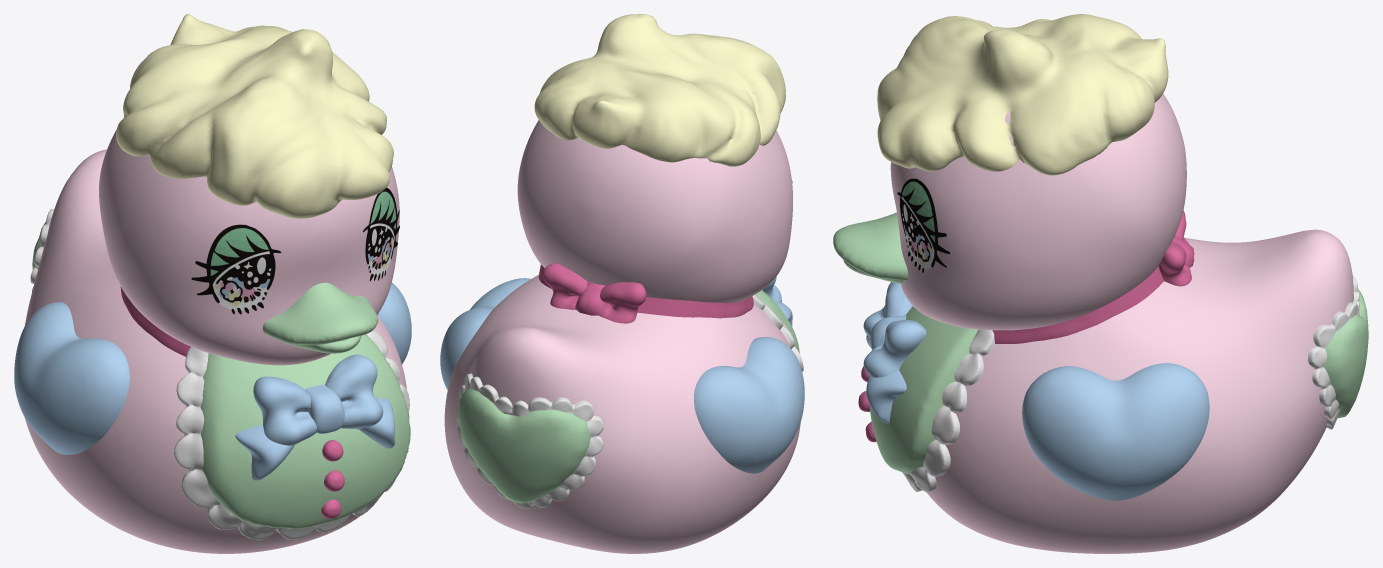
3 renders of one model, left to right at view 1: azimuth 30°, elevation 25°; view 2: azimuth 150°, elevation 25°; view 3: azimuth 270°, elevation 25°, orthographic. The views are drawn at different scales.
Parts seen in each view (by area): view 1: Kami, Fix, Torebi 5, Maekake, Torebi 7, Ribon.001, 平面.001, Furi.001, Torebi 3, Torebi 4, Botann, チューブ 4; view 2: Torebi 5, Fix, Kami, Torebi 7, Patch 1, Furi, Patch 14, Torebi 4, チューブ 4, Furi.001, Maekake; view 3: Torebi 5, Fix, Kami, Torebi 4, Maekake, Ribon.001, Furi.001, Torebi 3, Patch 1, 平面.001, チューブ 4, Furi (+1 smaller).
Part boxes in pixels (x1,y1,x2,y2): Kami: [116, 14, 393, 218]; Fix: [99, 118, 399, 365]; Torebi 5: [25, 149, 406, 553]; Maekake: [200, 334, 410, 528]; Torebi 7: [14, 302, 129, 454]; Ribon.001: [235, 354, 394, 480]; 平面.001: [191, 188, 399, 314]; Furi.001: [174, 330, 410, 540]; Torebi 3: [263, 282, 378, 353]; Torebi 4: [377, 282, 411, 364]; Botann: [321, 440, 344, 518]; チューブ 4: [120, 286, 190, 356]; Torebi 5: [444, 275, 800, 553]; Fix: [517, 120, 792, 302]; Kami: [534, 14, 785, 166]; Torebi 7: [694, 337, 804, 473]; Patch 1: [457, 388, 590, 503]; Furi: [456, 373, 603, 508]; Patch 14: [542, 263, 646, 323]; Torebi 4: [440, 278, 530, 389]; チューブ 4: [538, 264, 753, 318]; Furi.001: [752, 294, 804, 387]; Maekake: [756, 290, 799, 352]; Torebi 5: [926, 229, 1353, 553]; Fix: [890, 93, 1186, 330]; Kami: [877, 14, 1168, 175]; Torebi 4: [1022, 363, 1209, 500]; Maekake: [870, 306, 978, 474]; Ribon.001: [863, 282, 926, 423]; Furi.001: [902, 329, 994, 492]; Torebi 3: [833, 212, 908, 283]; Patch 1: [1324, 289, 1368, 418]; 平面.001: [897, 178, 949, 272]; チューブ 4: [992, 266, 1163, 343]; Furi: [1308, 275, 1359, 429].
Bounding box in the file's own units: 50.64 × 64.82 × 64.03.
Materials: 7 (1 with a texture image).
